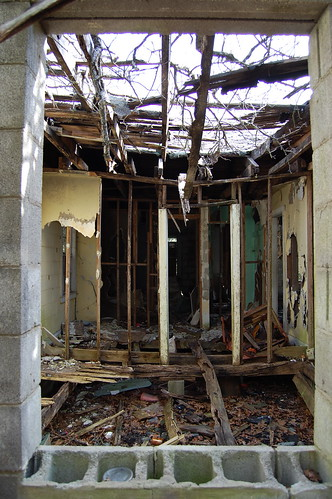building: (18, 16, 328, 464)
